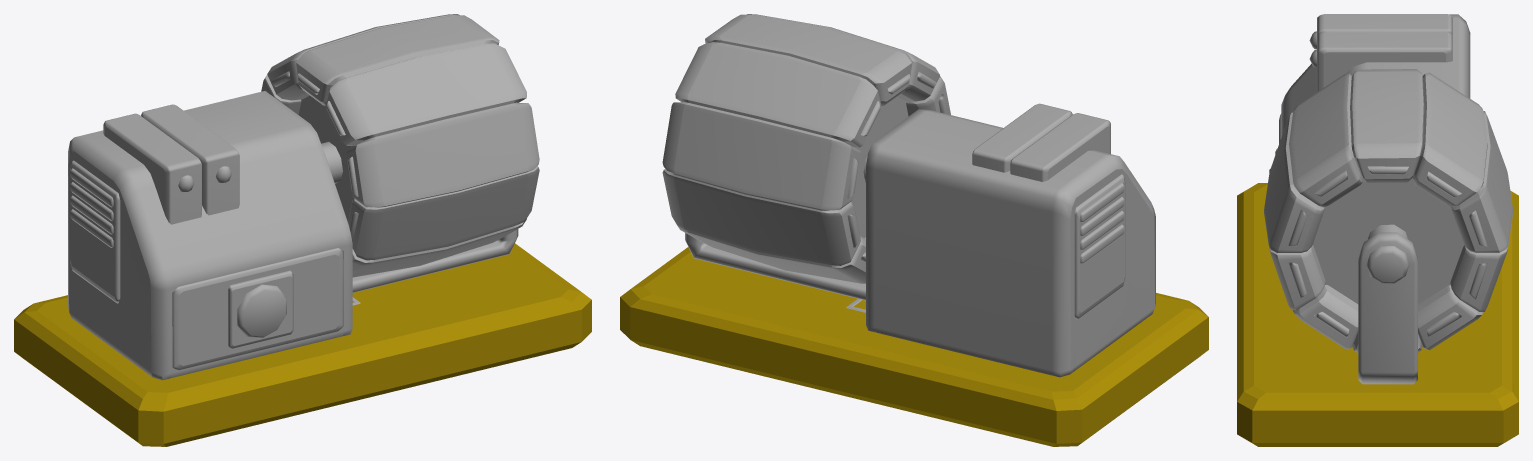
The model's file is Generator.fbx.
3 views of the same model, side by side, from view 1: azimuth 30°, elevation 25°; view 2: azimuth 150°, elevation 25°; view 3: azimuth 270°, elevation 25° (orthographic).
Visible parts, largest first — view 1: Generator, Generator_Cilinder; view 2: Generator, Generator_Cilinder; view 3: Generator, Generator_Cilinder.
Boxes of the visible parts, left/top/right/bottom form: Generator: left=14, top=91, right=591, bottom=446; Generator_Cilinder: left=261, top=14, right=539, bottom=277; Generator: left=620, top=103, right=1208, bottom=446; Generator_Cilinder: left=662, top=14, right=950, bottom=283; Generator: left=1237, top=14, right=1518, bottom=446; Generator_Cilinder: left=1264, top=69, right=1513, bottom=352.
Size of the model in its own units: 558 by 334 by 297.
